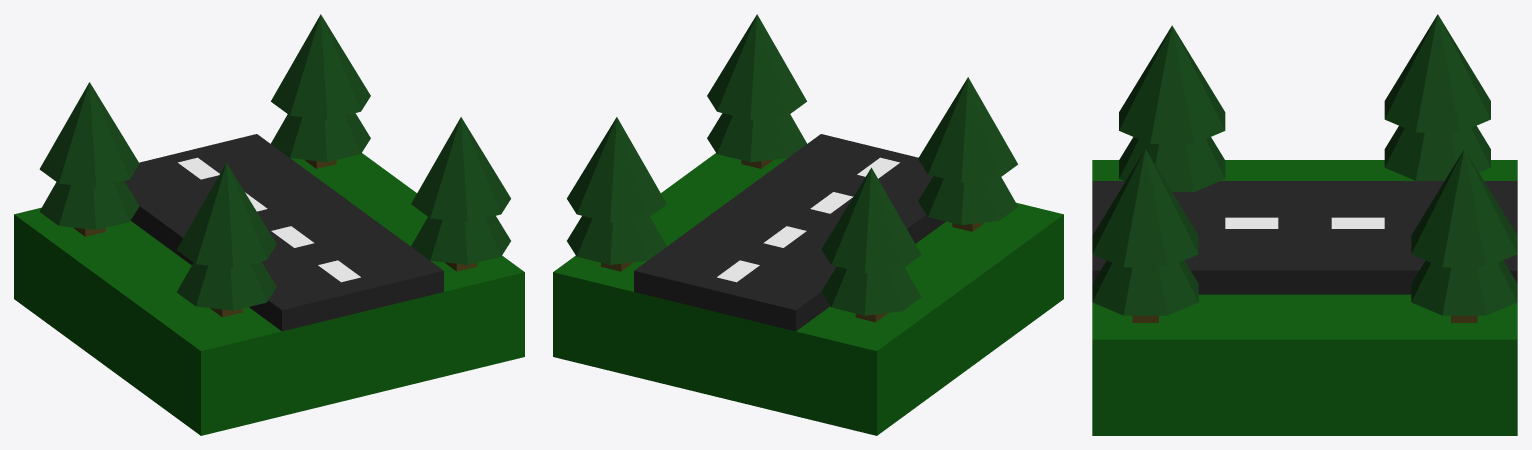
File: road.obj
3 renders of one model, left to right at view 1: azimuth 30°, elevation 25°; view 2: azimuth 150°, elevation 25°; view 3: azimuth 270°, elevation 25°, orthographic. The views are drawn at different scales.
Parts seen in each view (by area): view 1: grass, cone, road, plane, cylinder; view 2: grass, cone, road, plane, cylinder; view 3: grass, cone, road, plane, cylinder.
Boxes of the visible parts, x1,y1,x2,y2 form: grass: [14, 153, 524, 435]; cone: [39, 14, 510, 310]; road: [124, 134, 443, 331]; plane: [178, 157, 360, 282]; cylinder: [74, 160, 476, 317]; grass: [553, 153, 1063, 435]; cone: [567, 14, 1018, 315]; road: [634, 134, 945, 331]; plane: [717, 157, 899, 282]; cylinder: [601, 160, 983, 322]; grass: [1092, 160, 1517, 435]; cone: [1092, 14, 1517, 315]; road: [1092, 181, 1517, 294]; plane: [1225, 217, 1384, 228]; cylinder: [1132, 315, 1477, 322].
Size of the model in its own units: 0.25 by 0.1719 by 0.25.
Materials: 1 (1 with a texture image).
